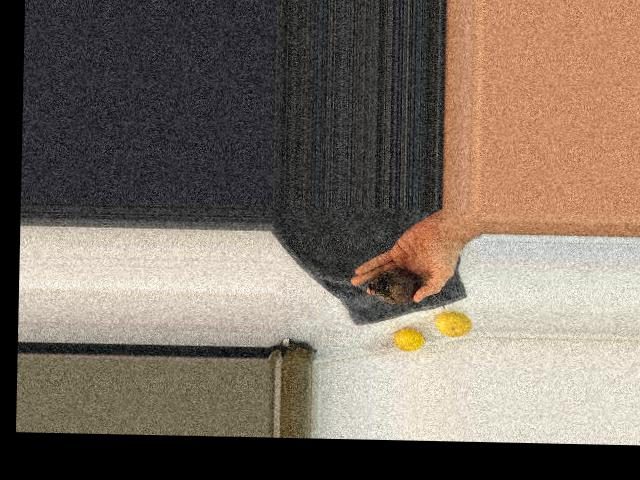beet: (368, 267, 446, 309)
